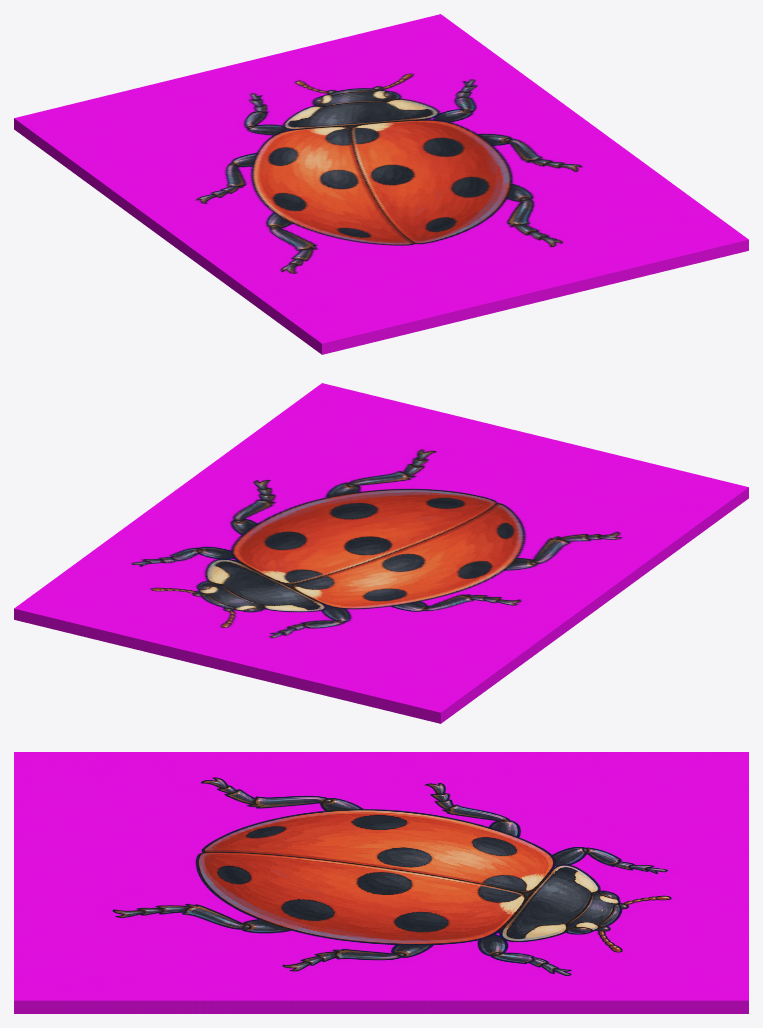
The model's file is ladybug_chroma.glb.
3 views of the same model, one above another, from view 1: azimuth 30°, elevation 25°; view 2: azimuth 150°, elevation 25°; view 3: azimuth 270°, elevation 25° (orthographic). The views are drawn at different scales.
Parts seen in each view (by area): view 1: ladybug_chroma; view 2: ladybug_chroma; view 3: ladybug_chroma.
Boxes of the visible parts, x1,y1,x2,y2 form: ladybug_chroma: (14, 14, 748, 354); ladybug_chroma: (14, 383, 748, 723); ladybug_chroma: (14, 752, 748, 1013).
Bounding box in the file's own units: 2 × 0.05 × 2.5.
Materials: 1 (1 with a texture image).
